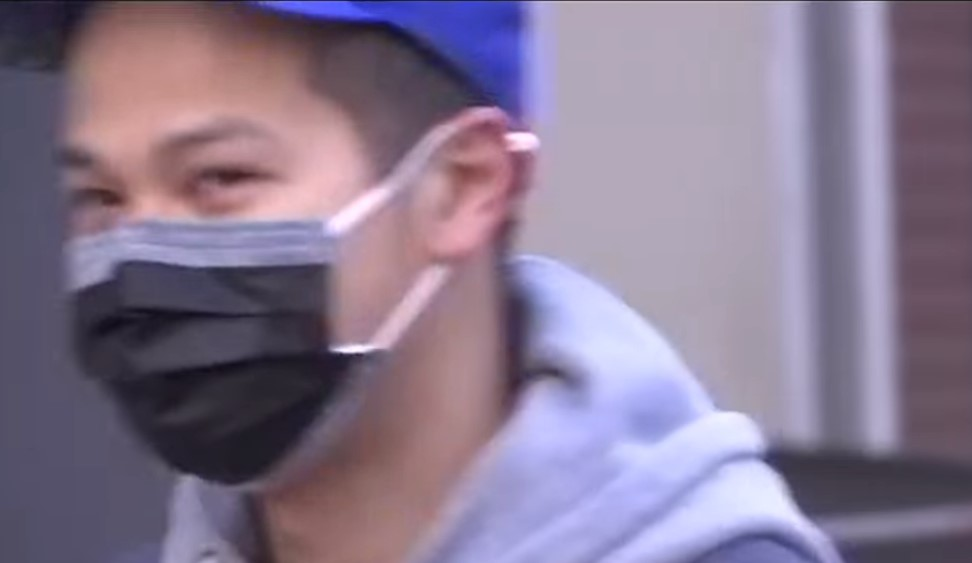face_with_mask: (60, 7, 538, 489)
